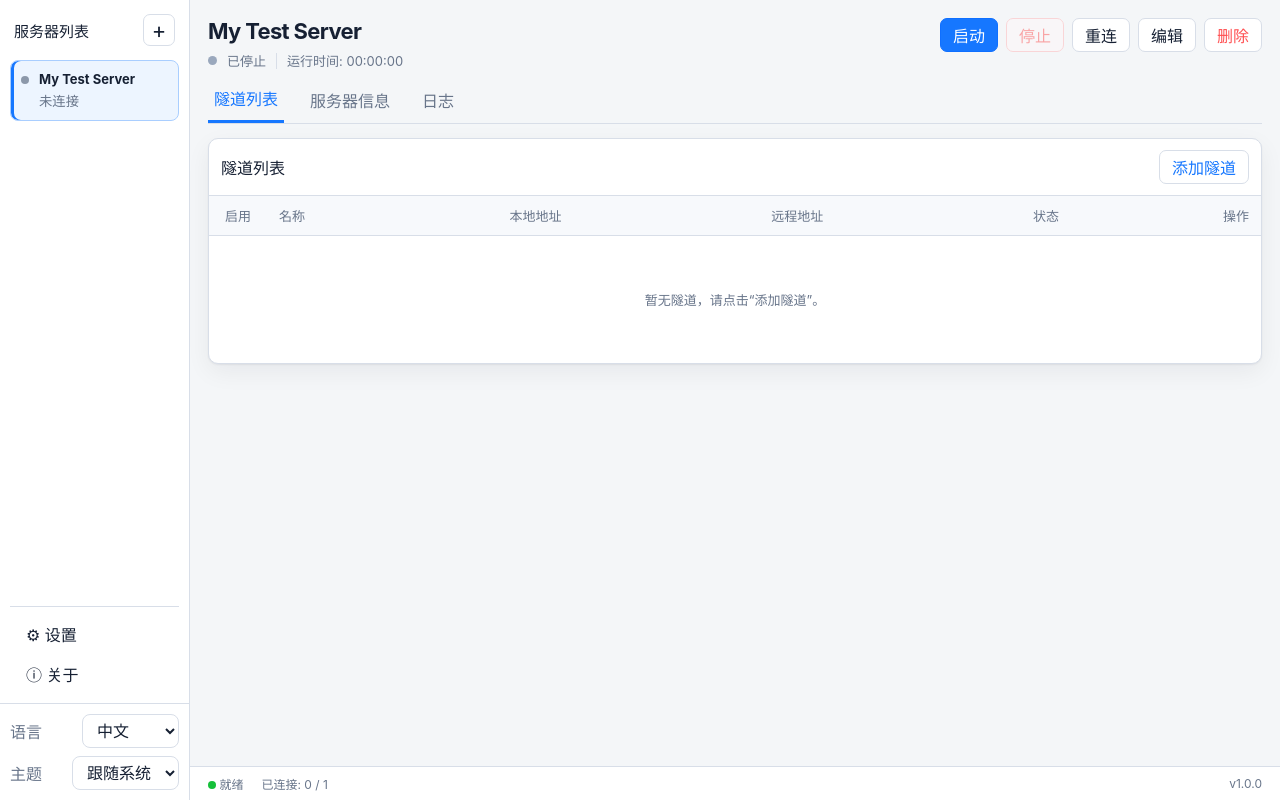
Test case: TunnelDockApp › keeps polling status after start until server leaves starting state
This screenshot has width=1280, height=800.
Expected: the text "My Test Server" is shown, [39,71,135,87]
Click the button "启动" at (969, 35), box [940,18,998,52]
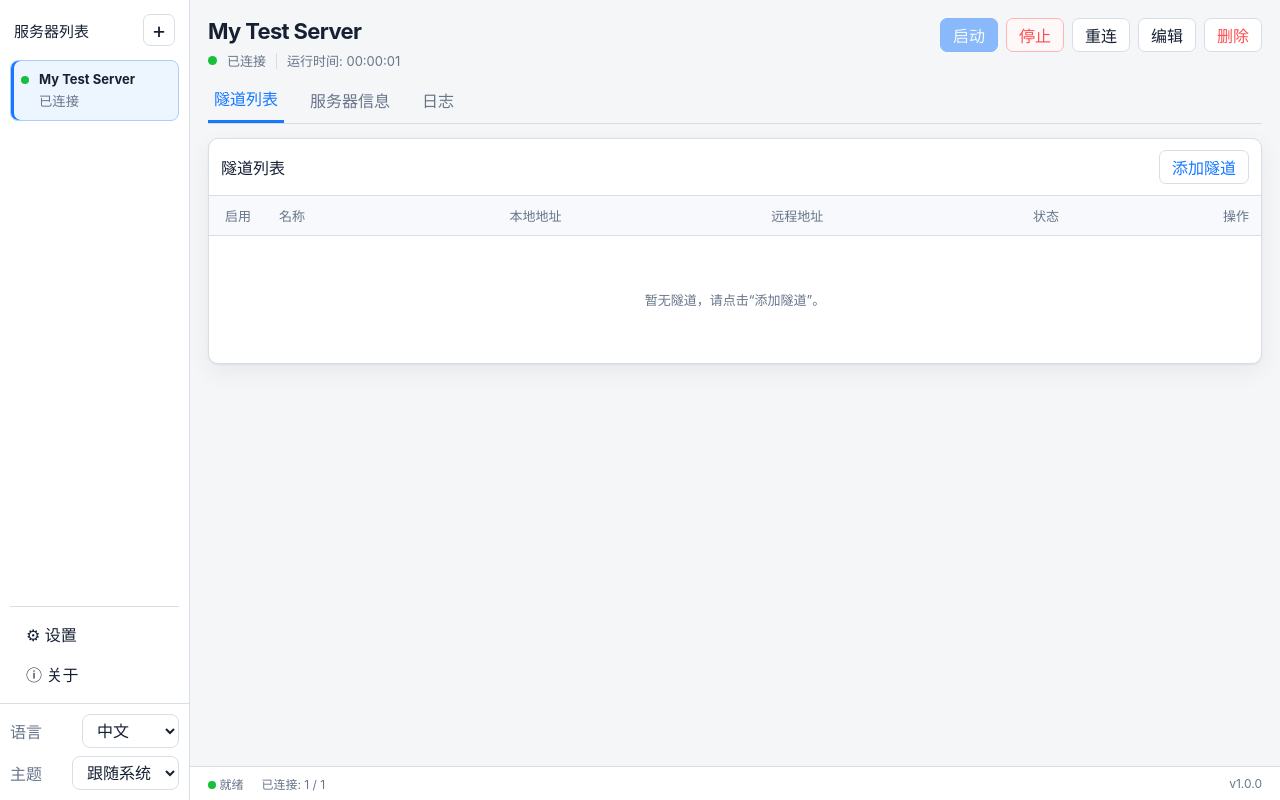
Expected: the text "启动中" next to "运行时间" is shown, [227,51,266,70]
Now the text "已连接" below "服务器列表" is shown, box [39,93,79,109]
